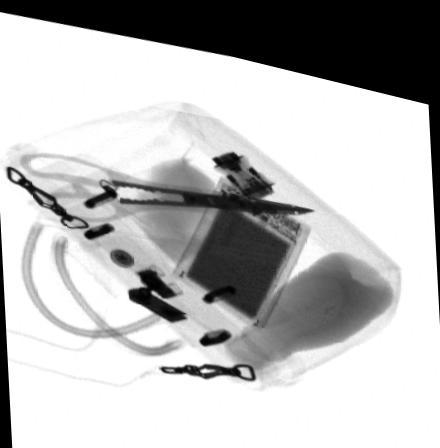Powerbank: (170, 162, 312, 317)
Scissors: (17, 150, 322, 220)
